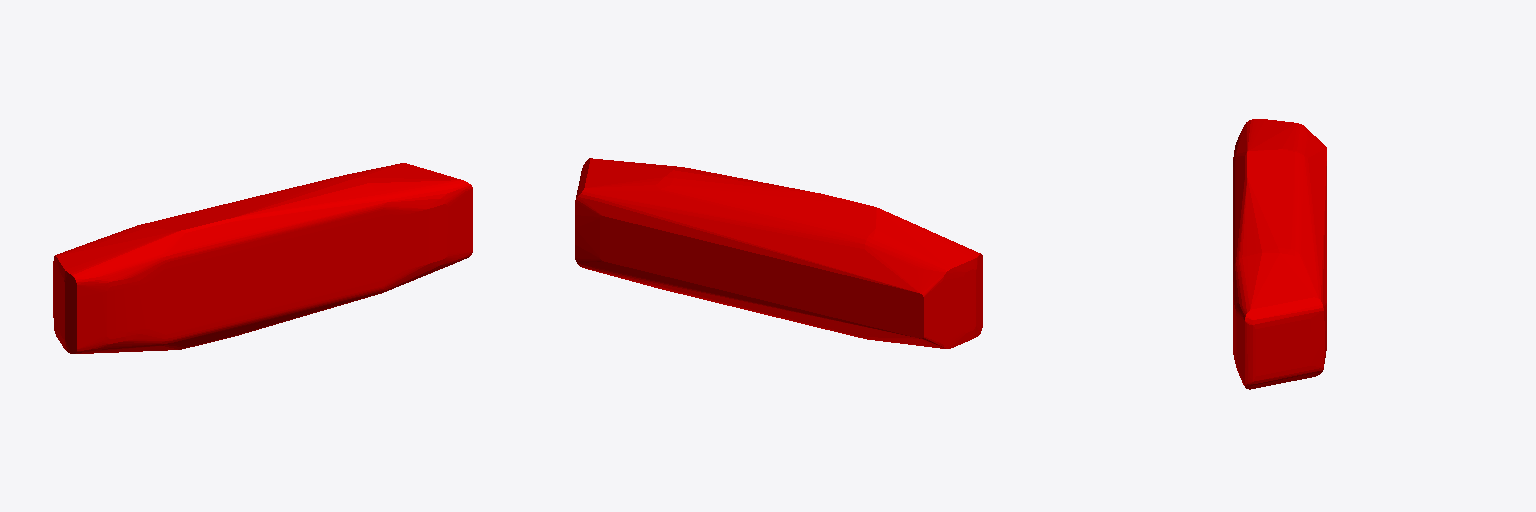
File: body_hull.obj
The picture shows the model from 3 angles: view 1: azimuth 30°, elevation 25°; view 2: azimuth 150°, elevation 25°; view 3: azimuth 270°, elevation 25°; orthographic projection.
Visible parts, largest first — view 1: body; view 2: body; view 3: body.
Boxes of the visible parts, x1,y1,x2,y2 form: body: [53, 163, 472, 353]; body: [575, 158, 982, 348]; body: [1233, 119, 1326, 389].
Size of the model in its own units: 0.8677 by 0.2473 by 0.177.